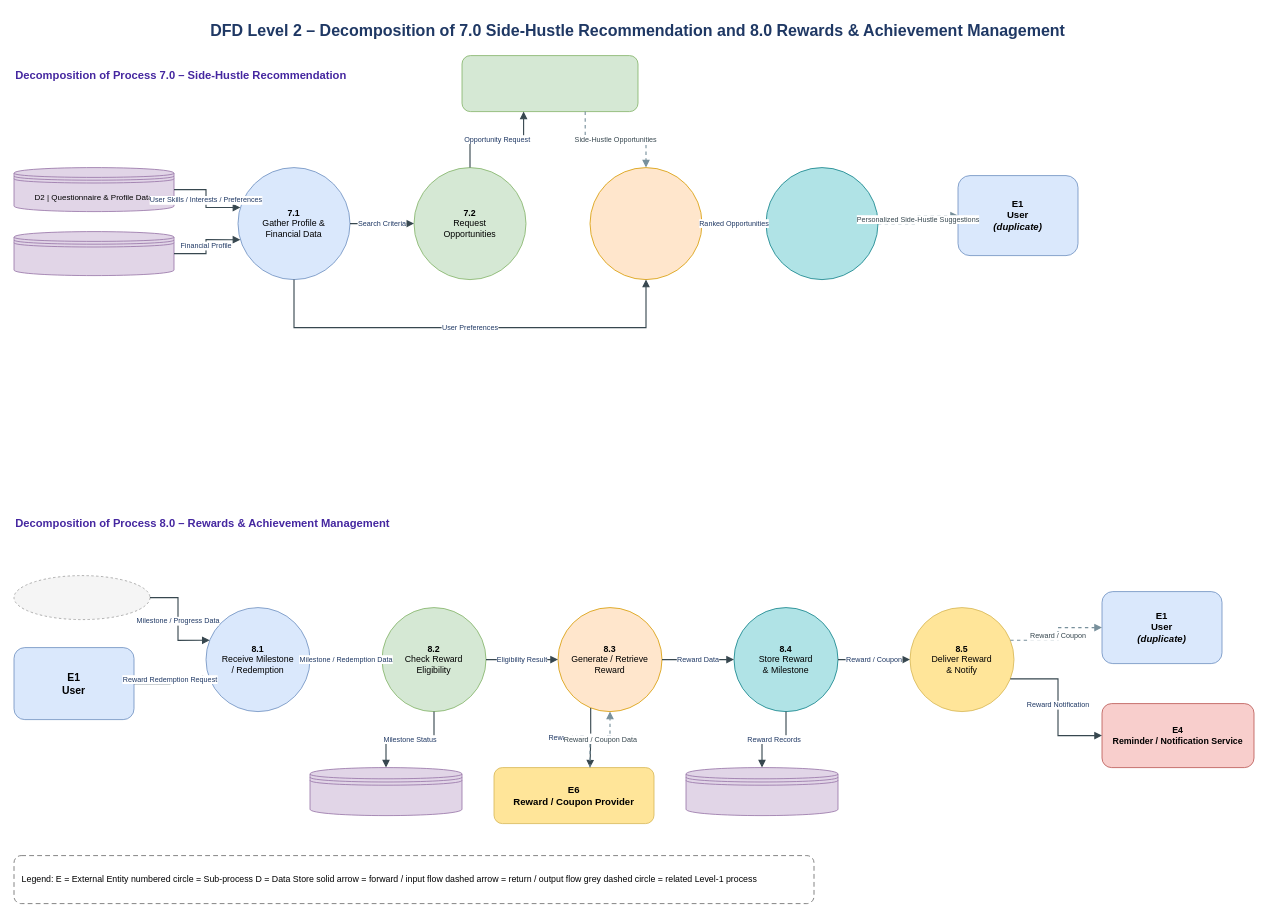
This 1276x918 diagram has some shape labels left out. Here are the shapes that lost their labels. From the top down, the centre of each, then its label:
At (x=549, y=83): "E5 Side-Hustle Platforms".
At (x=645, y=223): "7.3 Match & Rank Opportunities".
At (x=821, y=223): "7.4 Deliver Suggestions".
At (x=93, y=253): "D3 | Financial Transactions".
At (x=81, y=597): "5.0 Dashboard & Progress".
At (x=385, y=791): "D6 | Progress & Streaks".
At (x=761, y=791): "D7 | Rewards & Coupons".
